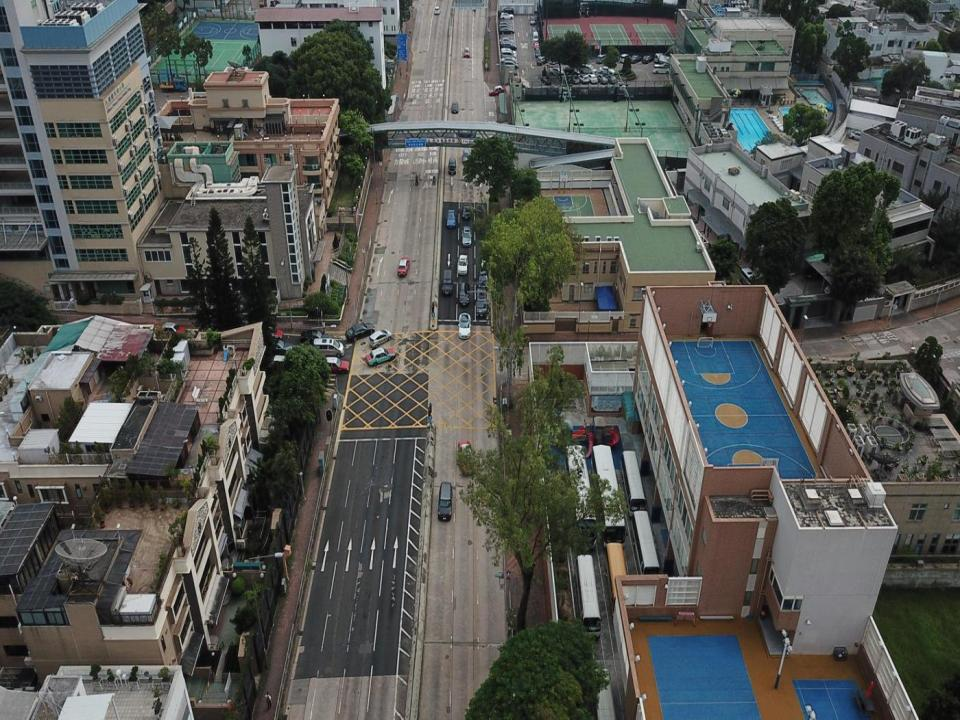bus: (590, 444, 624, 548), (564, 444, 597, 550), (575, 552, 601, 642), (630, 511, 660, 584), (605, 543, 631, 625), (620, 450, 647, 515)
car: (458, 440, 475, 476), (344, 322, 376, 340), (258, 338, 293, 354), (365, 347, 396, 365), (320, 356, 349, 375), (300, 330, 329, 345), (156, 322, 186, 336), (370, 329, 392, 347), (254, 327, 282, 340), (459, 312, 471, 339), (478, 268, 490, 290), (458, 253, 468, 274), (446, 207, 456, 228), (398, 258, 409, 276), (461, 203, 472, 221), (489, 85, 505, 97), (462, 226, 471, 246), (451, 99, 460, 113), (462, 46, 470, 57), (434, 6, 440, 14)
van: (312, 337, 344, 356), (438, 481, 452, 521), (475, 290, 487, 316), (442, 269, 452, 297), (459, 281, 469, 305), (449, 158, 456, 176), (462, 148, 469, 164)
